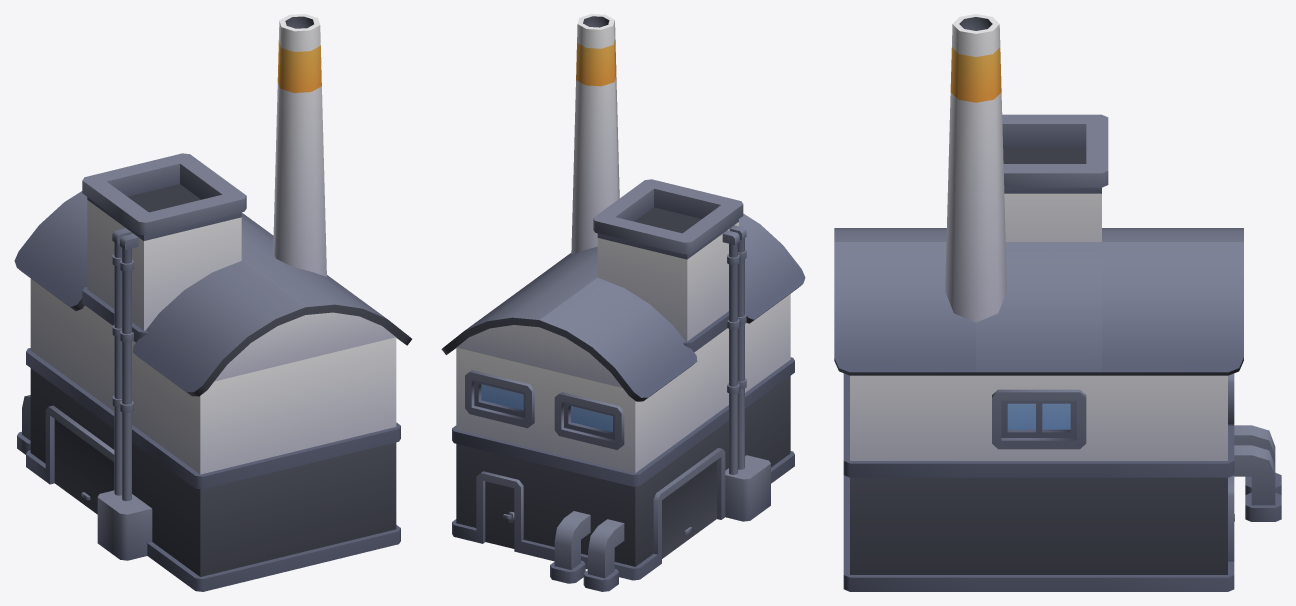
Rendered from building-n_lev1.glb.
3 renders of one model, left to right at view 1: azimuth 30°, elevation 25°; view 2: azimuth 150°, elevation 25°; view 3: azimuth 270°, elevation 25°, orthographic. The views are drawn at different scales.
Visible parts, largest first — view 1: building-n_lev1; view 2: building-n_lev1; view 3: building-n_lev1.
Part boxes in pixels (x1,y1,x2,y2): building-n_lev1: (14,14,411,591); building-n_lev1: (441,14,805,591); building-n_lev1: (834,14,1281,591).
Size of the model in its own units: 5.3 by 10.33 by 7.7.
1 material, 1 textured.
